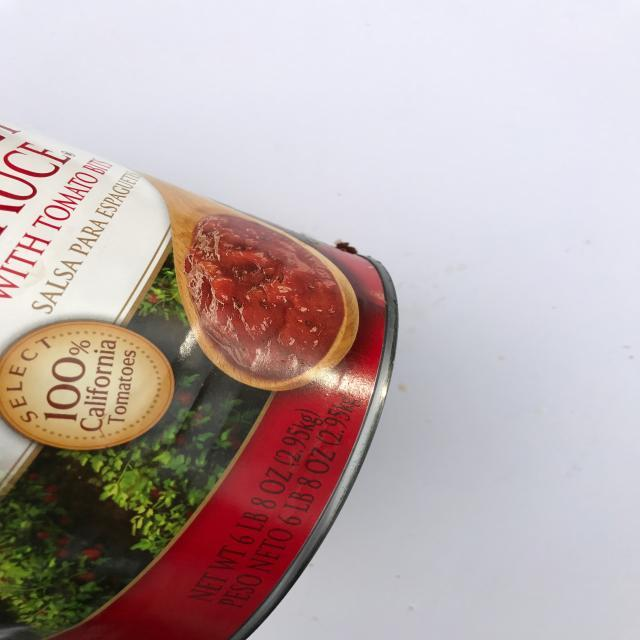metal: (1, 120, 399, 640)
